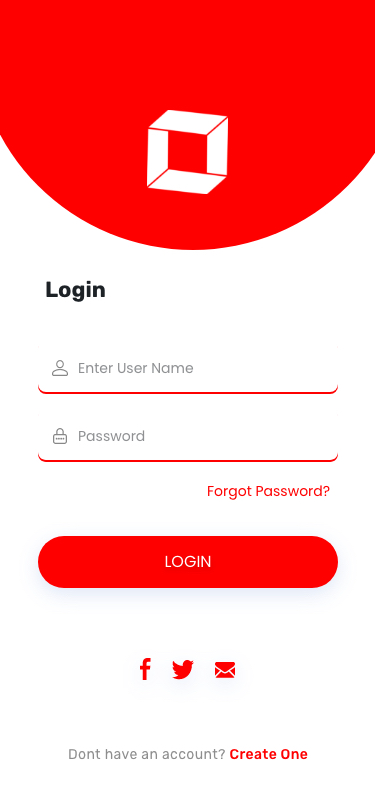EditText: (38, 360, 338, 395), (39, 428, 339, 463)
Icon: (172, 660, 194, 680), (215, 662, 236, 679), (52, 360, 69, 377), (140, 657, 152, 681), (53, 428, 68, 445)
Image: (147, 110, 229, 195)
Text: (207, 485, 330, 501), (69, 748, 226, 760), (46, 281, 106, 303), (79, 363, 194, 374), (230, 748, 308, 760), (79, 430, 145, 442)
TextButton: (39, 536, 339, 589)
